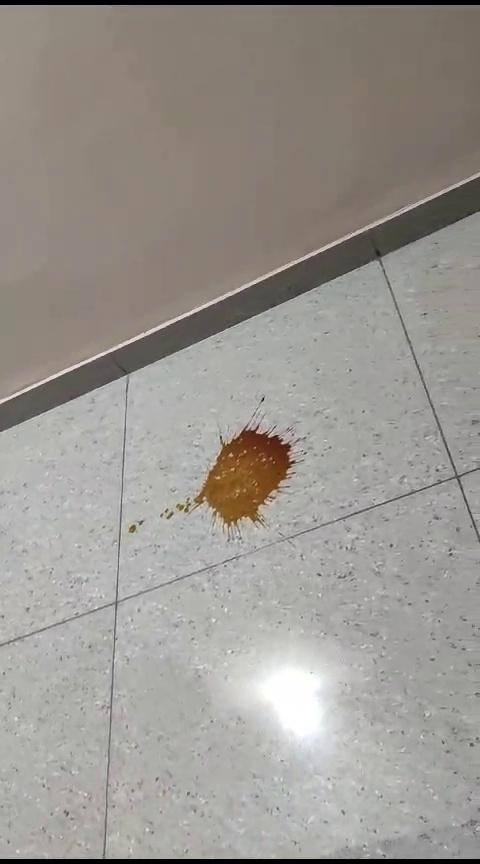dirty_floor: (127, 404, 309, 533)
